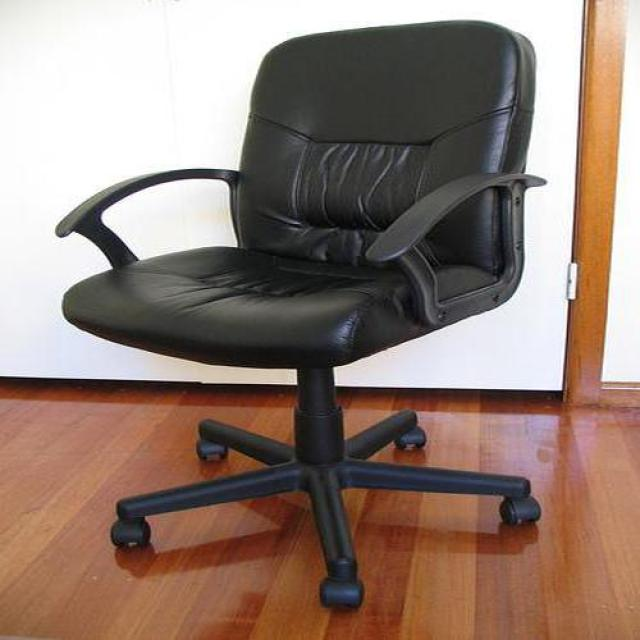swivelchair: (58, 20, 548, 612)
